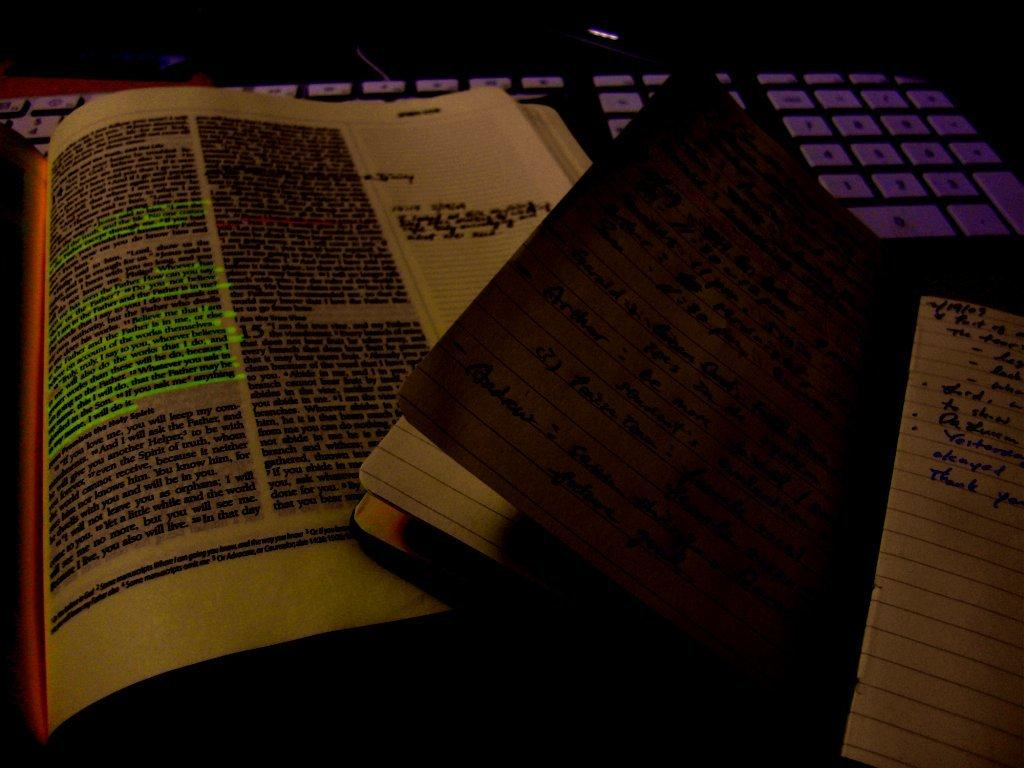Computer-keyboard: (2, 77, 1023, 254)
